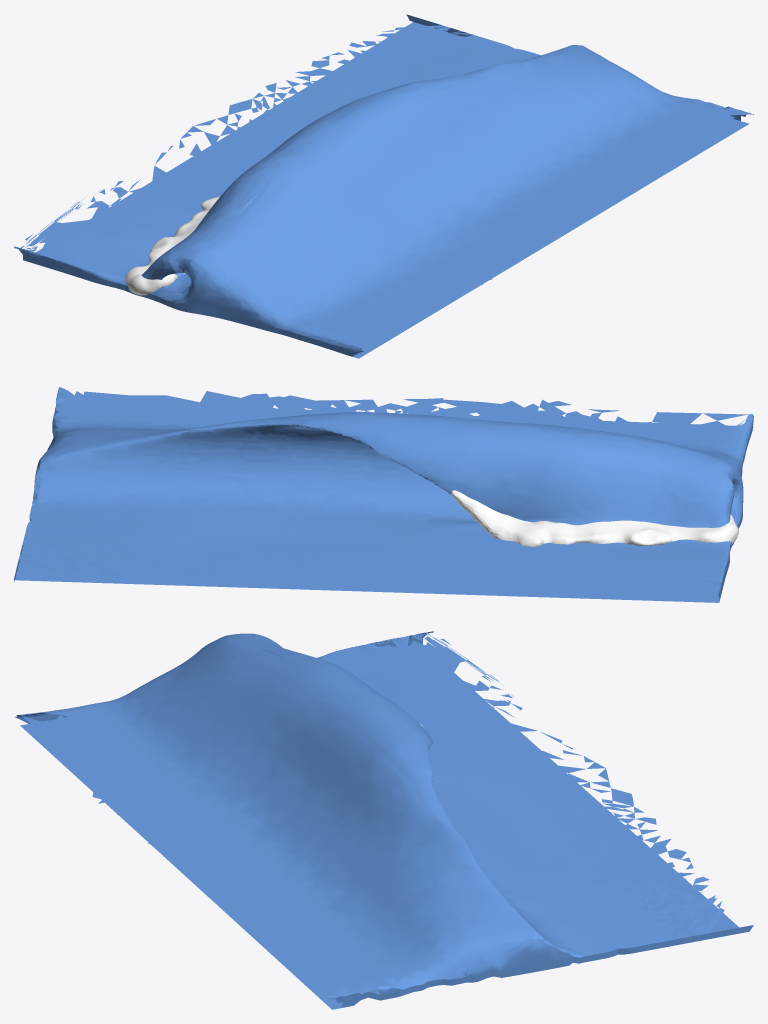
File: waveFixed.glb
The picture shows the model from 3 angles, top to bottom: view 1: azimuth 30°, elevation 25°; view 2: azimuth 150°, elevation 25°; view 3: azimuth 270°, elevation 25°; orthographic projection. The views are drawn at different scales.
Visible parts, largest first — view 1: Object_18, Object_23; view 2: Object_18, Object_23; view 3: Object_18.
Boxes of the visible parts, box(x1,y1,x2,y2) form: Object_18: box(14, 14, 753, 358); Object_23: box(125, 197, 219, 296); Object_18: box(14, 387, 753, 602); Object_23: box(451, 490, 738, 546); Object_18: box(14, 631, 753, 1009).
Bounding box in the file's own units: 39.59 × 8.27 × 33.66.
